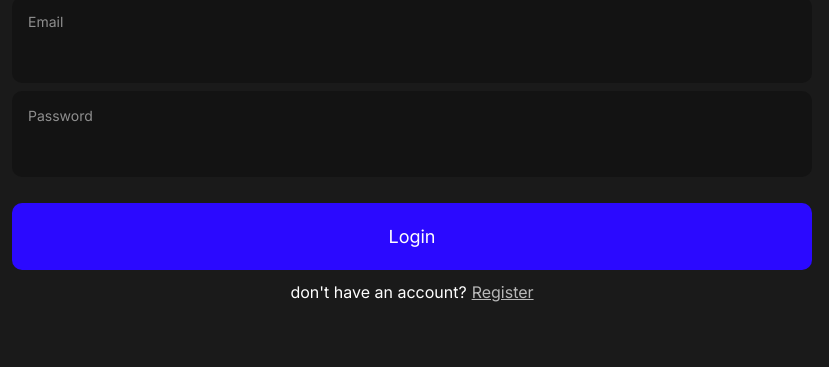
Scenario: LoginForm Component › shows validation errors on empty submit
Click the button "Login".
click(412, 236)  # box [12,203,812,270]
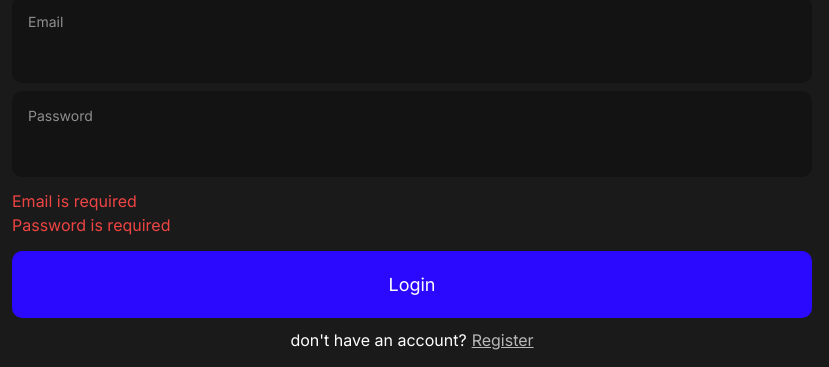
Result: the text "Email is required" is shown at [12,191,137,211]
Result: the text "Password is required" is shown at [12,215,170,235]
